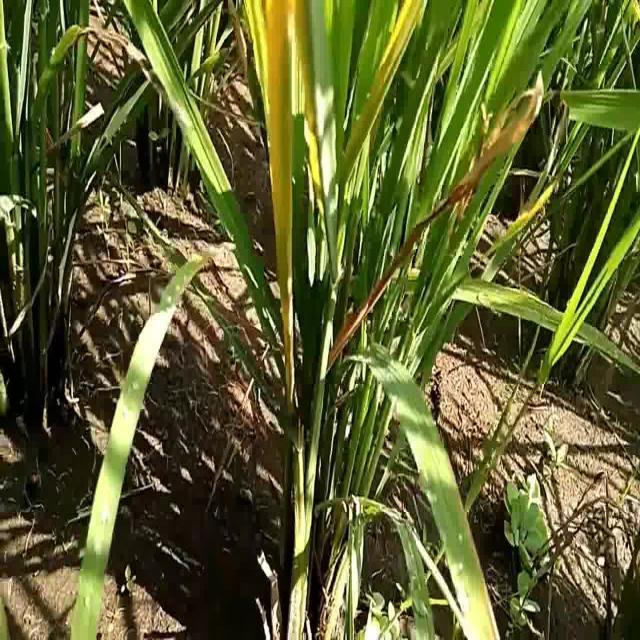Rice Tungro: (243, 3, 301, 404), (356, 2, 429, 148)
